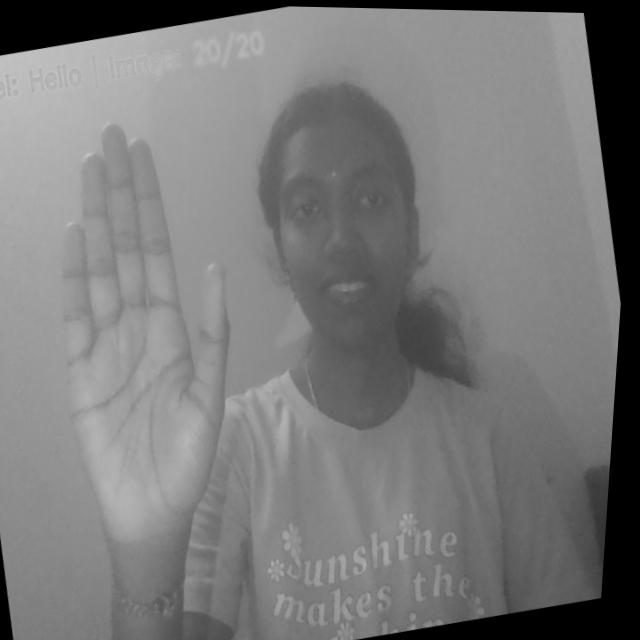Hello: (12, 98, 291, 574)
